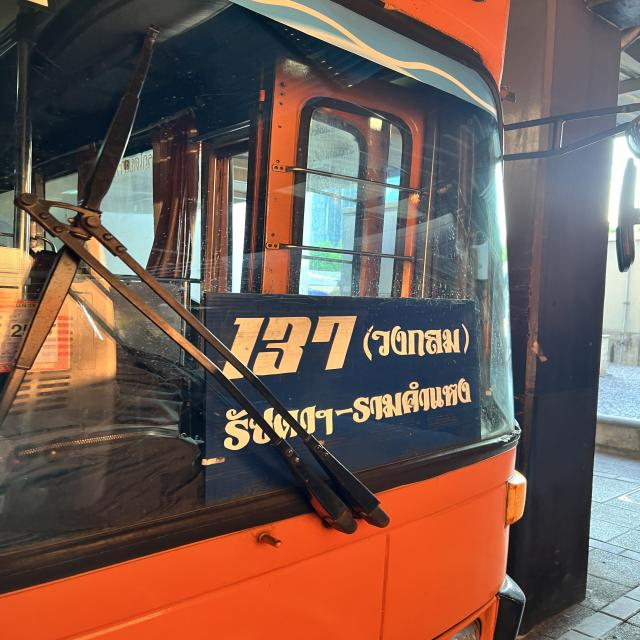BMTA-bus: (0, 0, 541, 640)
Destination-Sign-Normal: (197, 292, 478, 500)
